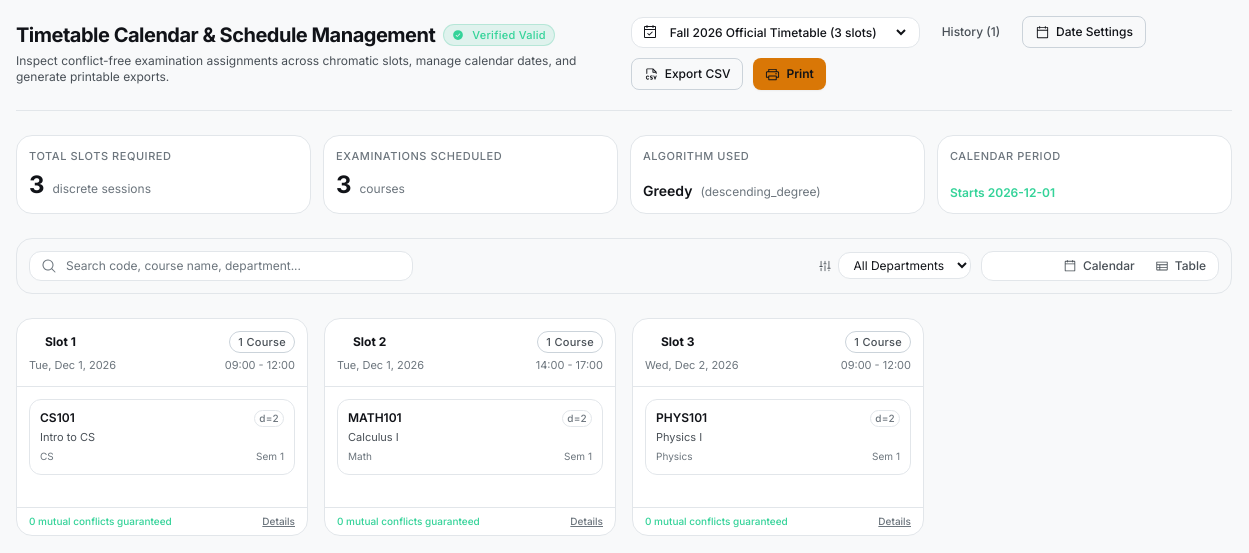
Test: Phase 8: Timetable Management & Calendar › TimetableCalendarPage › allows switching to Table view
This screenshot has width=1249, height=553.
Expected: the heading "Timetable Calendar & Schedule Management" is shown, [16,21,435,49]
Click the button "Table": [1180, 266] box [1145,254,1216,278]
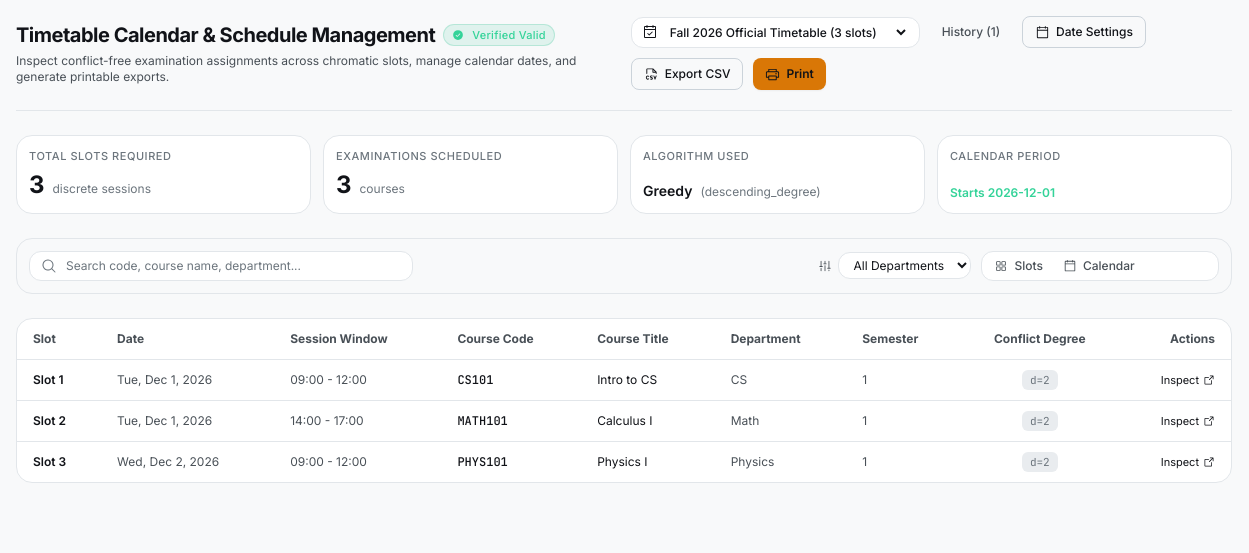
Now the column heading "Course Code" is shown, box [441,318,581,359]
Now the column heading "Course Title" is shown, box [581,318,715,359]
Now the column heading "Session Window" is shown, box [274,318,441,359]
